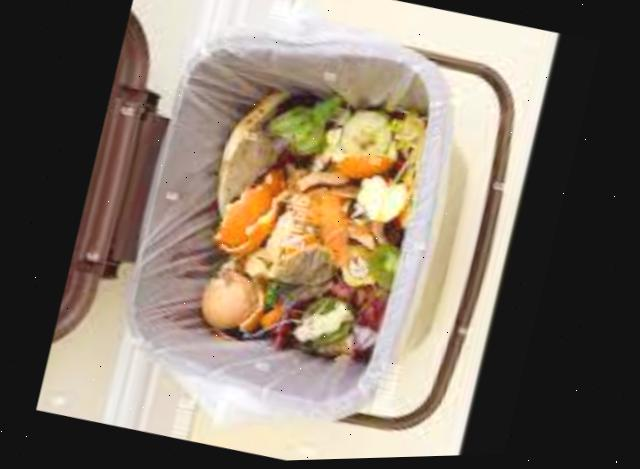Garbage: (200, 91, 426, 360)
